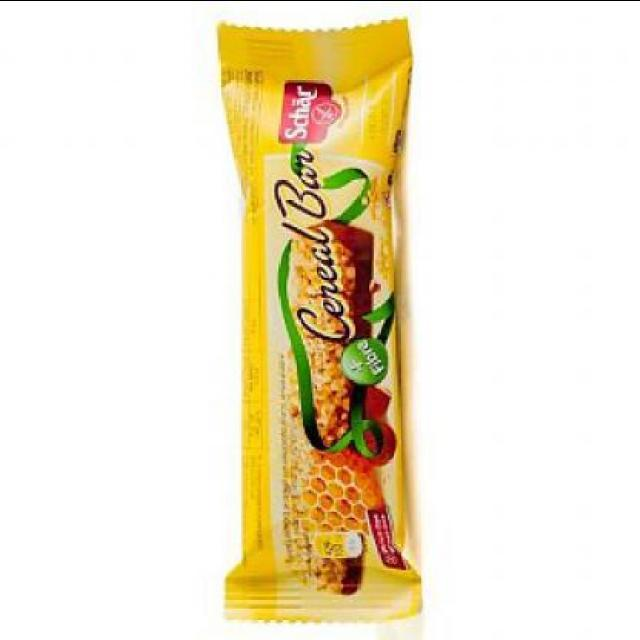Cereal bar: (212, 6, 422, 630)
